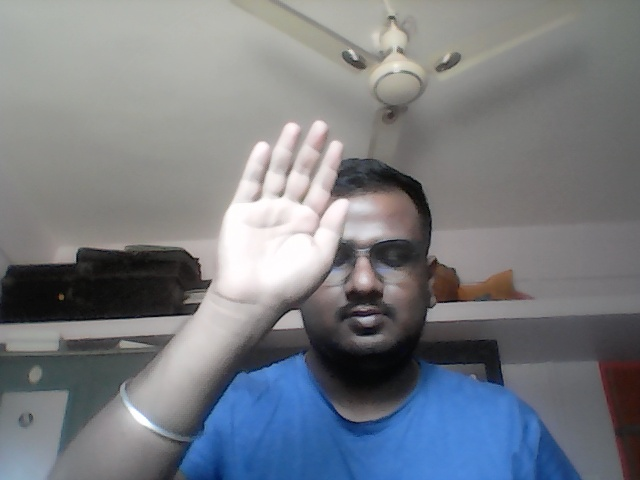Hello: (213, 118, 355, 307)
